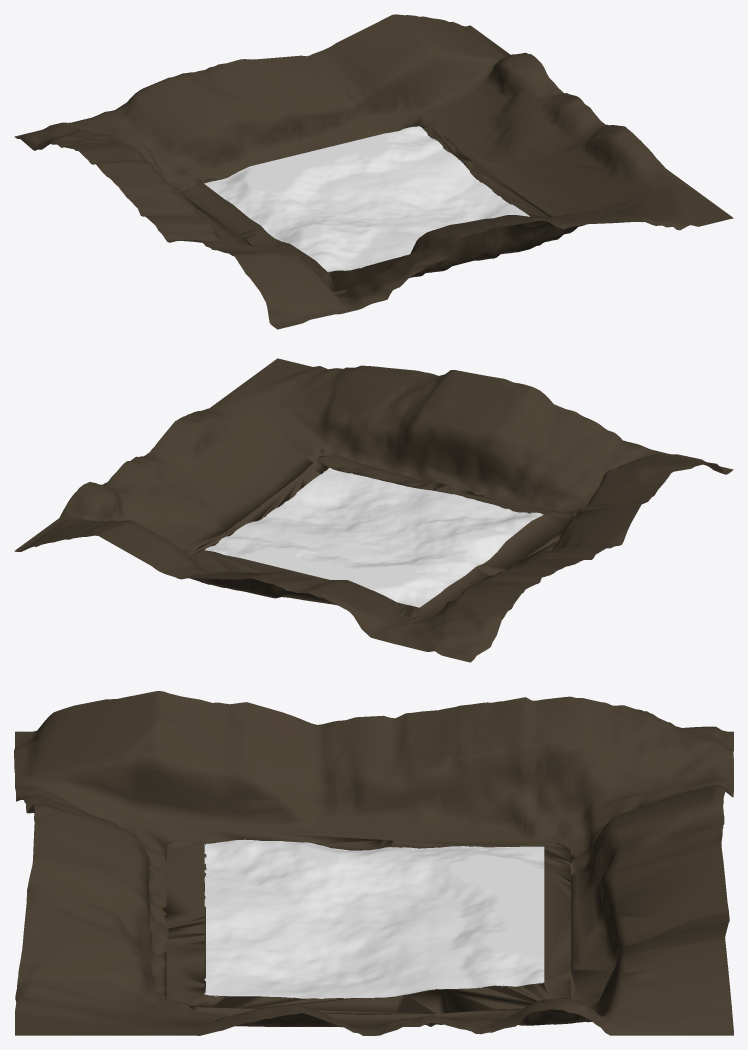
The model's file is landscape.glb.
The picture shows the model from 3 angles, top to bottom: view 1: azimuth 30°, elevation 25°; view 2: azimuth 150°, elevation 25°; view 3: azimuth 270°, elevation 25°; orthographic projection. The views are drawn at different scales.
Visible parts, largest first — view 1: Landscape.046, Landscape.002; view 2: Landscape.046, Landscape.002; view 3: Landscape.046, Landscape.002.
Part boxes in pixels (x1=…): Landscape.046: x1=14, y1=14, x2=733, y2=329; Landscape.002: x1=204, y1=126, x2=529, y2=272; Landscape.046: x1=14, y1=358, x2=733, y2=662; Landscape.002: x1=205, y1=468, x2=543, y2=607; Landscape.046: x1=14, y1=691, x2=733, y2=1035; Landscape.002: x1=204, y1=839, x2=544, y2=998.
Bounding box in the file's own units: 2032 × 333 × 2035.
